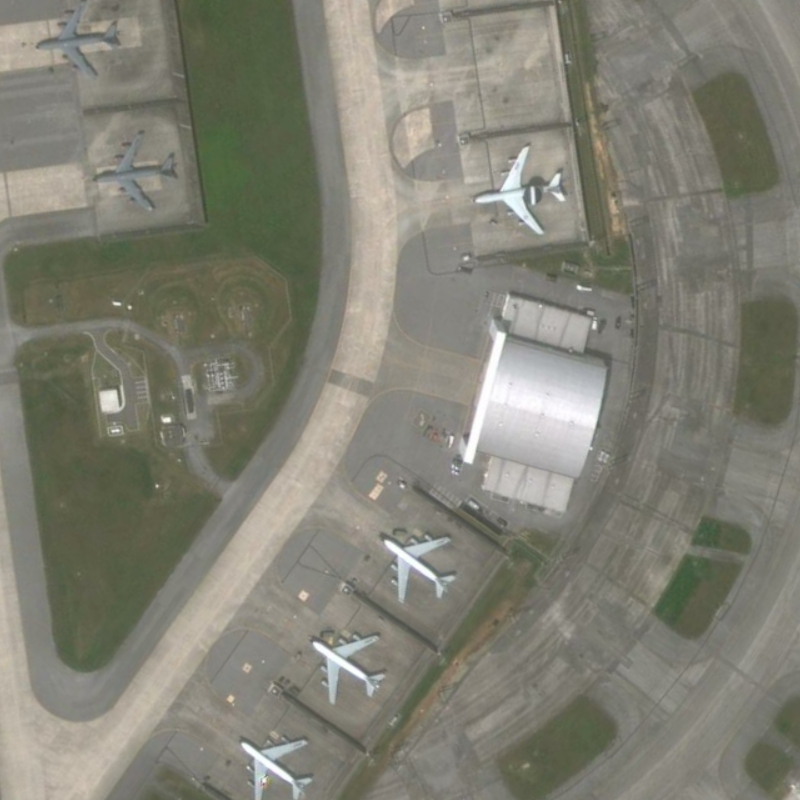A11: (370, 517, 464, 610), (302, 625, 396, 709), (234, 728, 324, 800)
A14: (84, 119, 182, 219), (28, 1, 126, 84)
A7: (471, 135, 572, 243)
